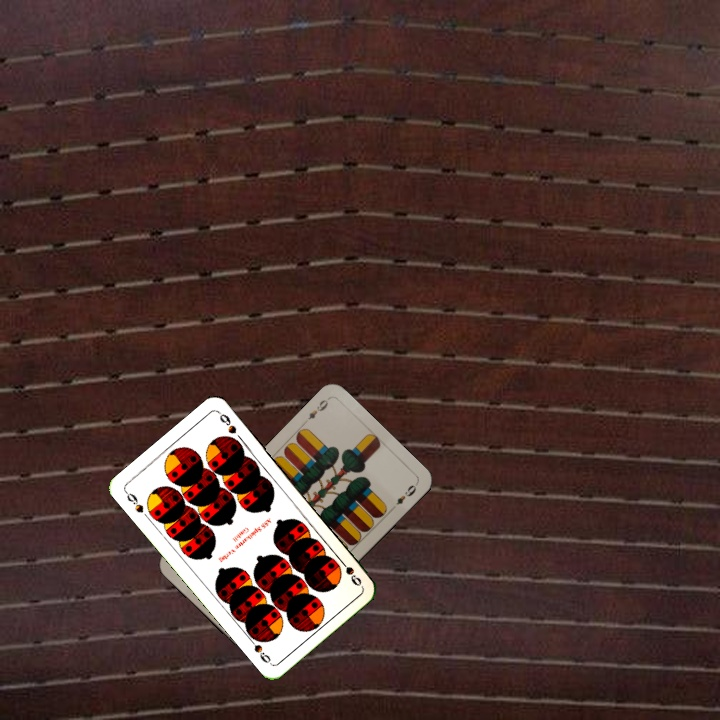E9: (303, 395, 331, 422)
S9: (334, 554, 364, 589), (121, 487, 146, 515)
